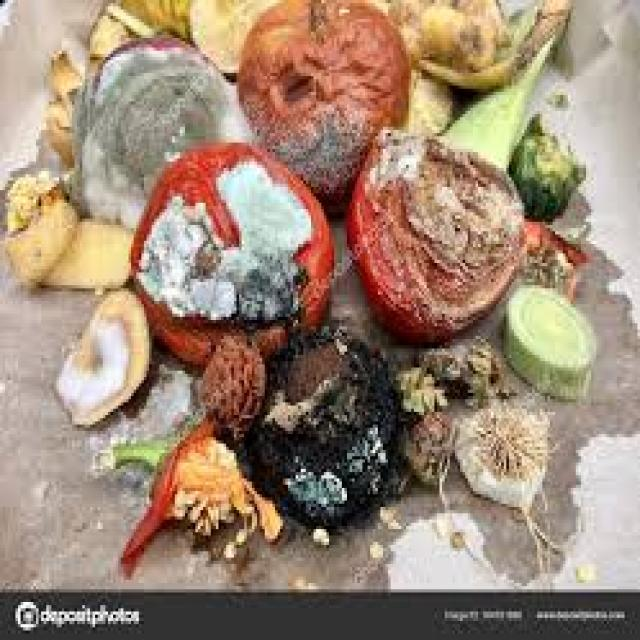organic waste: (126, 140, 334, 368), (342, 123, 524, 336), (67, 29, 249, 228), (236, 0, 406, 212), (234, 320, 393, 520), (110, 418, 282, 567), (434, 0, 568, 168), (452, 402, 556, 548), (386, 0, 555, 86), (49, 285, 146, 425), (501, 279, 591, 399), (0, 168, 77, 276), (509, 108, 583, 215), (195, 330, 265, 437), (38, 216, 134, 285), (183, 0, 275, 70), (88, 0, 188, 54), (519, 212, 584, 292), (396, 409, 455, 488), (406, 342, 496, 393), (44, 51, 82, 168), (406, 63, 450, 133), (411, 3, 460, 57), (390, 361, 440, 409), (462, 10, 498, 57), (306, 526, 326, 545), (218, 536, 234, 554), (365, 536, 380, 554), (232, 526, 244, 539)
